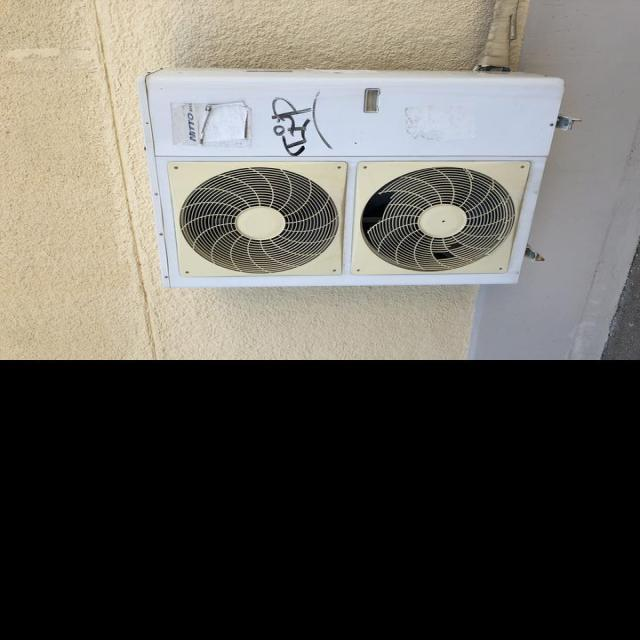nonspitting: (271, 91, 335, 156)
